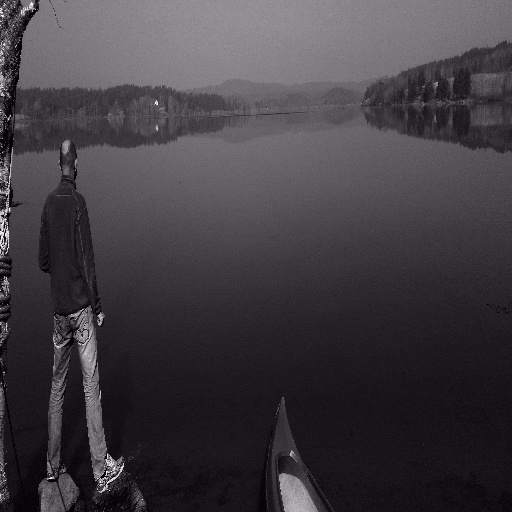hand: (96, 310, 105, 330)
